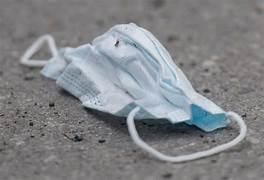Mask: (21, 23, 245, 161)
